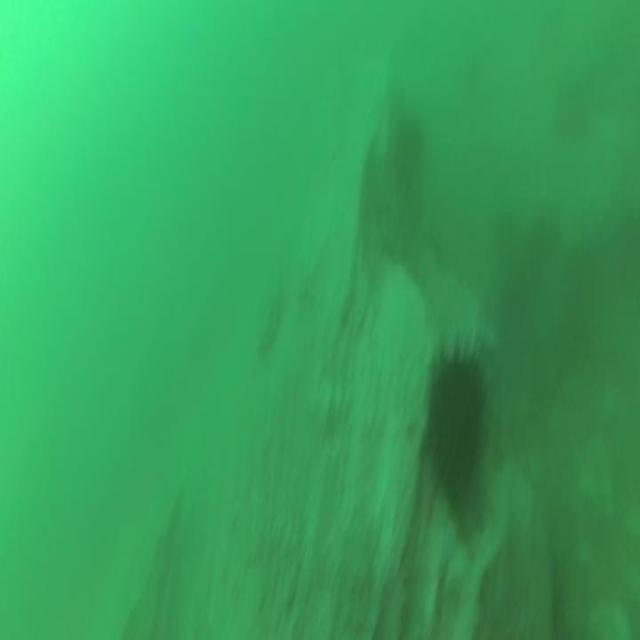echinus: (431, 357, 486, 495)
